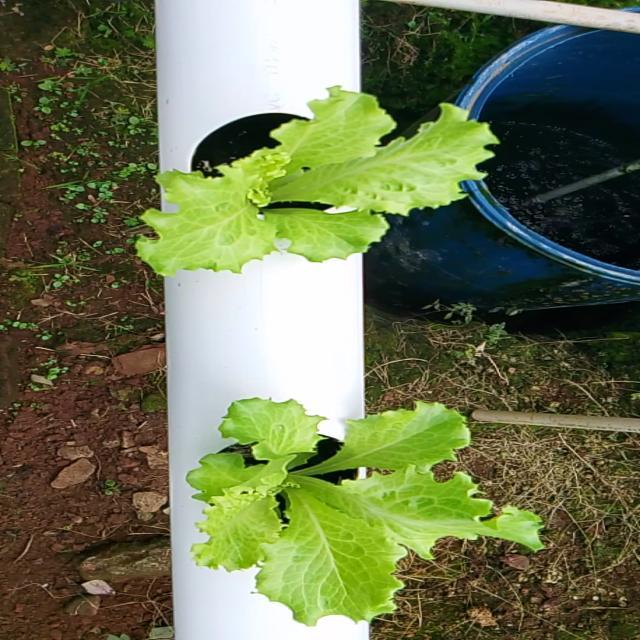Baby: (190, 399, 545, 629), (137, 82, 500, 272)
